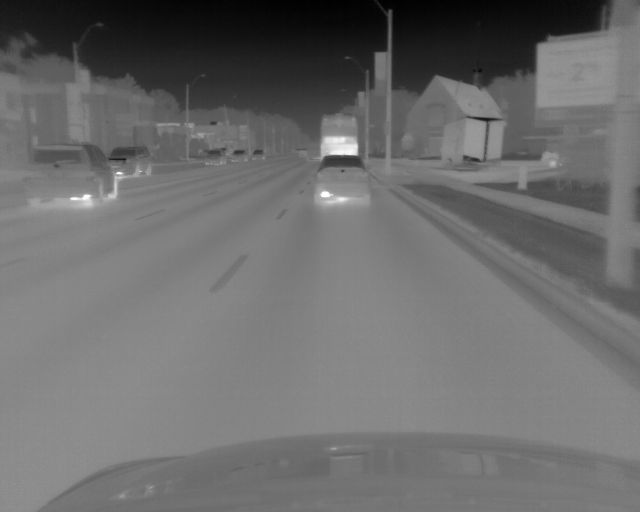car: (22, 143, 115, 204), (315, 156, 371, 207), (321, 112, 358, 158), (112, 144, 152, 179), (202, 148, 226, 167), (230, 150, 246, 162), (251, 149, 264, 161)
